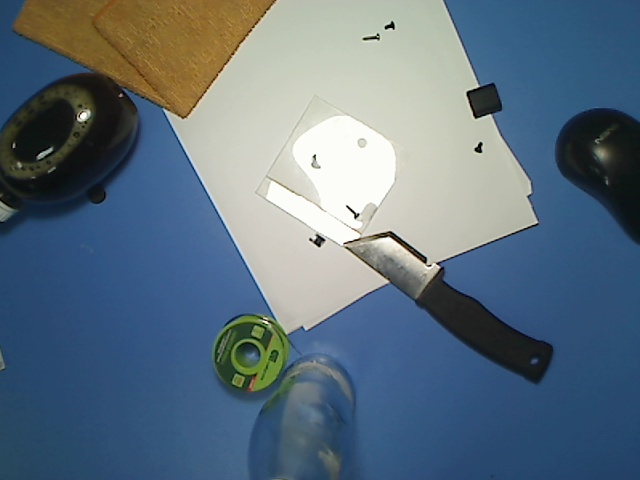plast_bottle: (1, 70, 141, 231)
